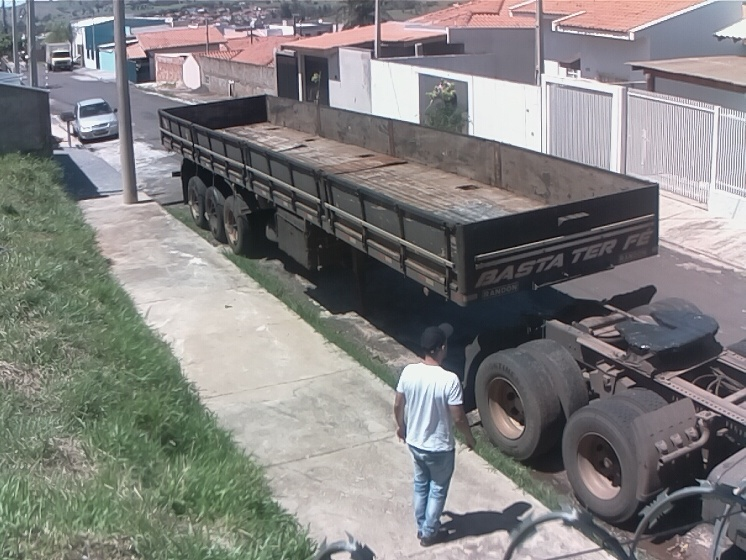person: (390, 323, 479, 551)
